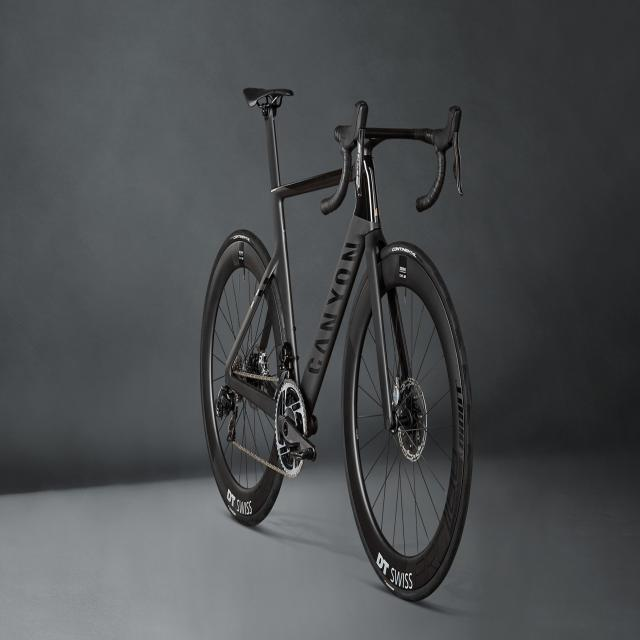road-bike: (201, 86, 472, 604)
